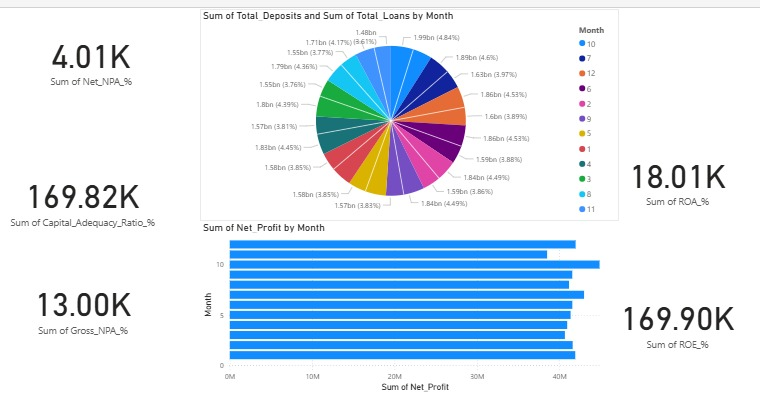

This screenshot's page, from the dashboard's own definition file:
{"tool":"powerbi","page":{"name":"Page 2","canvas":[1280,720],"ordinal":1},"visuals":[{"type":"card","fields":{"Values":["Sum(hdfc_bank_dashboard_dataset_10000_rows 2.ROA_%)"]},"box":[1000,201.7,280,280],"z":0},{"type":"card","fields":{"Values":["Sum(hdfc_bank_dashboard_dataset_10000_rows 2.ROE_%)"]},"box":[1000,481.7,280,198.3],"z":1000},{"type":"card","fields":{"Values":["Sum(hdfc_bank_dashboard_dataset_10000_rows 2.Gross_NPA_%)"]},"box":[0,481.7,281.7,151.7],"z":2000},{"type":"card","fields":{"Values":["Sum(hdfc_bank_dashboard_dataset_10000_rows 2.Net_NPA_%)"]},"box":[15,0,278.3,280],"z":3000},{"type":"card","fields":{"Values":["Sum(hdfc_bank_dashboard_dataset_10000_rows 2.Capital_Adequacy_Ratio_%)"]},"box":[0,316.7,280,118.3],"z":4000},{"type":"pieChart","fields":{"Category":["hdfc_bank_dashboard_dataset_10000_rows 2.Month"],"Y":["Sum(hdfc_bank_dashboard_dataset_10000_rows 2.Total_Deposits)","Sum(hdfc_bank_dashboard_dataset_10000_rows 2.Total_Loans)"]},"box":[338.3,56.7,703.3,356.7],"z":5000},{"type":"clusteredBarChart","fields":{"Category":["hdfc_bank_dashboard_dataset_10000_rows 2.Month"],"Y":["Sum(hdfc_bank_dashboard_dataset_10000_rows 2.Net_Profit)"]},"box":[338.3,413.3,690,291.7],"z":6000}]}

Visuals, with their boxes on the page's 1280x720 design canvas (x1, y1, x2, y2). These are canvas units, not pixel positions in the 760x402 screenshot, which may show the page scaled, cropped or inside an application window:
card - Sum(hdfc_bank_dashboard_dataset_10000_rows 2.ROA_%): {"left": 1000, "top": 202, "right": 1280, "bottom": 482}
card - Sum(hdfc_bank_dashboard_dataset_10000_rows 2.ROE_%): {"left": 1000, "top": 482, "right": 1280, "bottom": 680}
card - Sum(hdfc_bank_dashboard_dataset_10000_rows 2.Gross_NPA_%): {"left": 0, "top": 482, "right": 282, "bottom": 633}
card - Sum(hdfc_bank_dashboard_dataset_10000_rows 2.Net_NPA_%): {"left": 15, "top": 0, "right": 293, "bottom": 280}
card - Sum(hdfc_bank_dashboard_dataset_10000_rows 2.Capital_Adequacy_Ratio_%): {"left": 0, "top": 317, "right": 280, "bottom": 435}
pieChart - hdfc_bank_dashboard_dataset_10000_rows 2.Month x Sum(hdfc_bank_dashboard_dataset_10000_rows 2.Total_Deposits): {"left": 338, "top": 57, "right": 1042, "bottom": 413}
clusteredBarChart - hdfc_bank_dashboard_dataset_10000_rows 2.Month x Sum(hdfc_bank_dashboard_dataset_10000_rows 2.Net_Profit): {"left": 338, "top": 413, "right": 1028, "bottom": 705}
